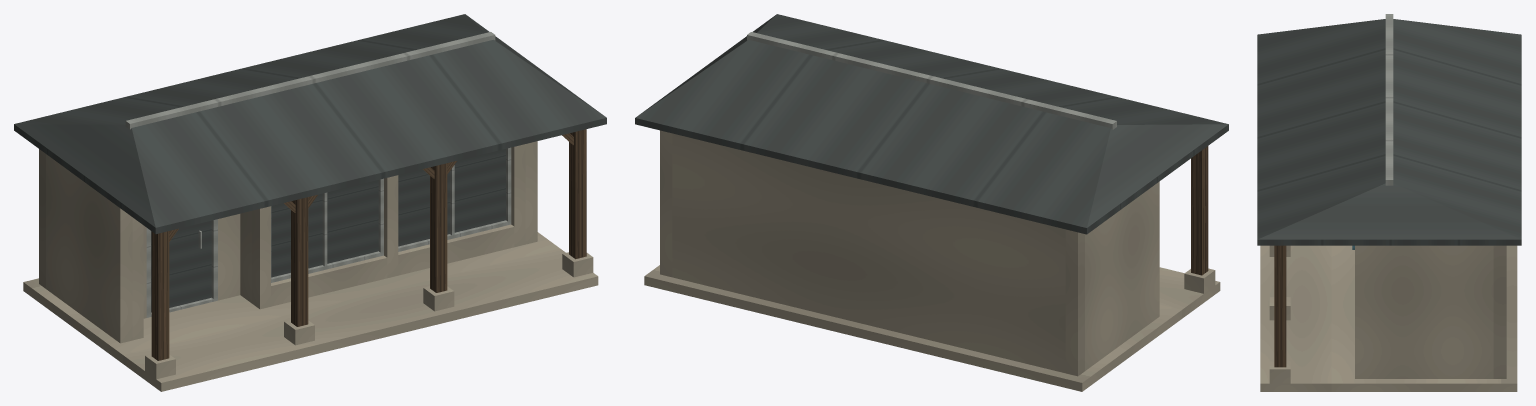
3 renders of one model, left to right at view 1: azimuth 30°, elevation 25°; view 2: azimuth 150°, elevation 25°; view 3: azimuth 270°, elevation 25°, orthographic. The views are drawn at different scales.
Visible parts, largest first — view 1: manila; view 2: manila; view 3: manila.
Part boxes in pixels (left/top/right/bottom): manila: left=14, top=14, right=606, bottom=391; manila: left=635, top=14, right=1228, bottom=391; manila: left=1257, top=14, right=1521, bottom=391.
Bounding box in the file's own units: 7.35 × 3.27 × 4.
1 material, 1 textured.
